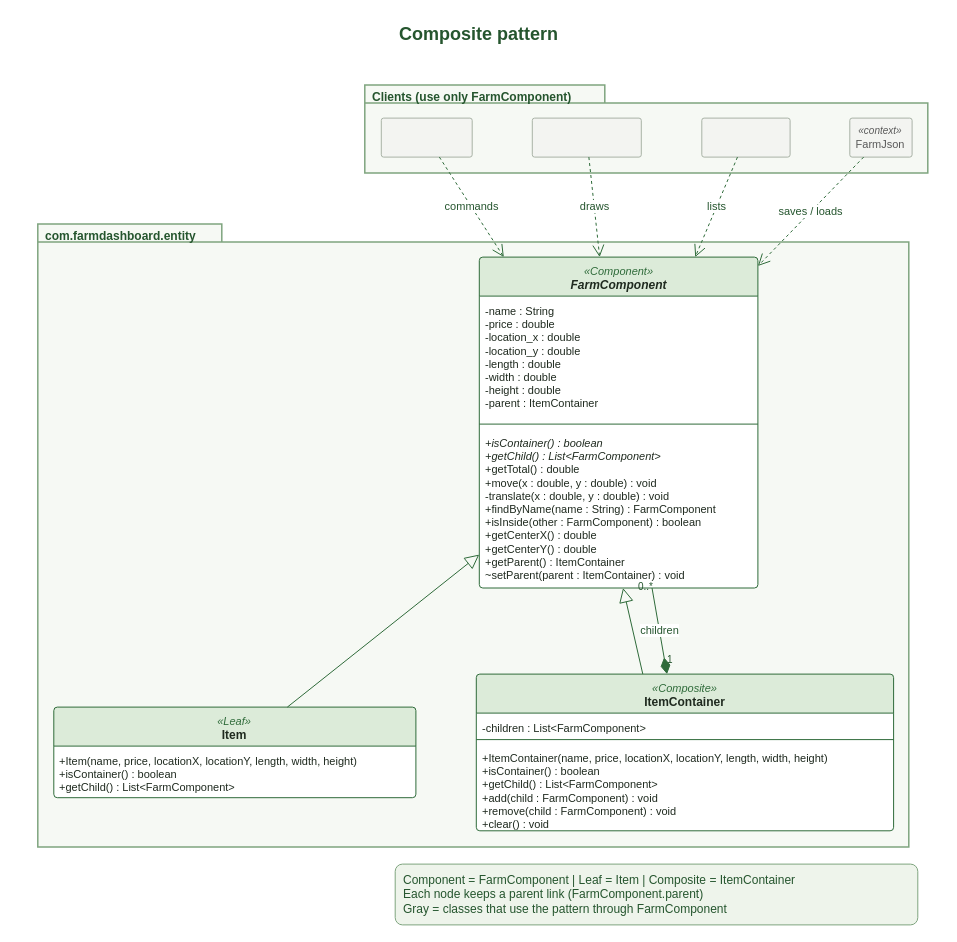
The diagram is 957 pixels wide and 942 high, and some of its shapes have lost their labels. Here are the shapes that lost their labels. From the top down, the centre of each, then its label:
At (426,137): "«context» FarmController".
At (586,137): "«context» VisualizationPanel".
At (745,137): "«context» ItemTreePanel".
